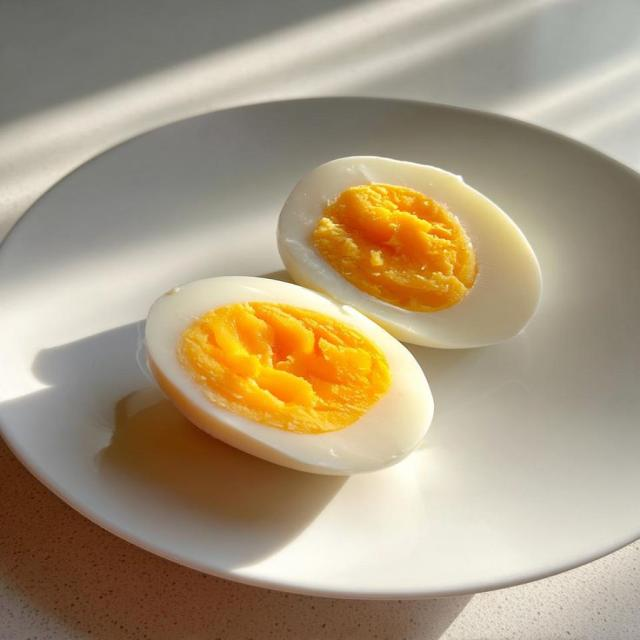egg boiled: (146, 277, 433, 474), (278, 157, 541, 348)
